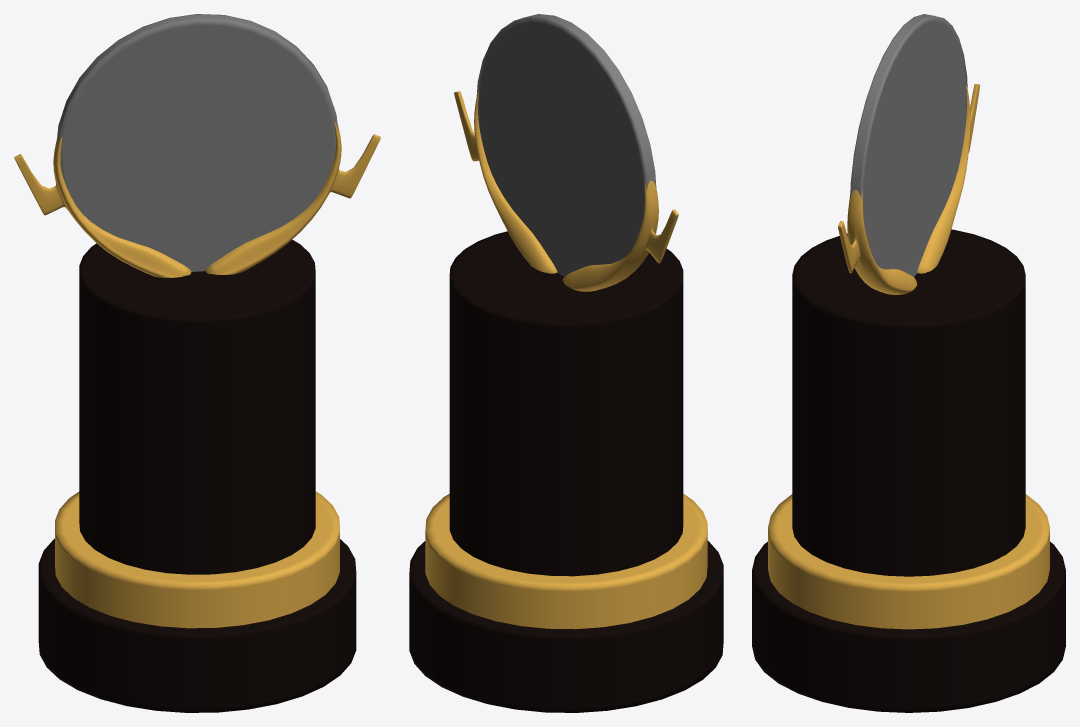
The model's file is V2_mirror_movement_blender.fbx.
The picture shows the model from 3 angles, left to right: view 1: azimuth 30°, elevation 25°; view 2: azimuth 150°, elevation 25°; view 3: azimuth 270°, elevation 25°; orthographic projection.
Visible parts, largest first — view 1: base long, mirror, base 1, base 2, mirror handle.001; view 2: base long, mirror, base 1, base 2, mirror handle.001; view 3: base long, base 1, mirror, base 2, mirror handle.001.
Boxes of the visible parts, box(x1,y1,x2,y2) form: base long: box(79, 239, 315, 574); mirror: box(57, 14, 338, 271); base 1: box(38, 538, 356, 712); base 2: box(55, 491, 339, 628); mirror handle.001: box(14, 121, 380, 277); base long: box(449, 231, 683, 576); mirror: box(476, 14, 656, 276); base 1: box(409, 540, 723, 712); base 2: box(425, 494, 707, 629); mirror handle.001: box(454, 90, 678, 291); base long: box(792, 229, 1025, 576); base 1: box(752, 541, 1065, 712); mirror: box(850, 14, 967, 276); base 2: box(768, 494, 1049, 629); mirror handle.001: box(838, 84, 980, 294).
Bounding box in the file's own units: 167 × 155 × 338.
